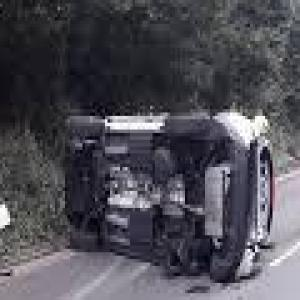fatal: (58, 99, 278, 286)
